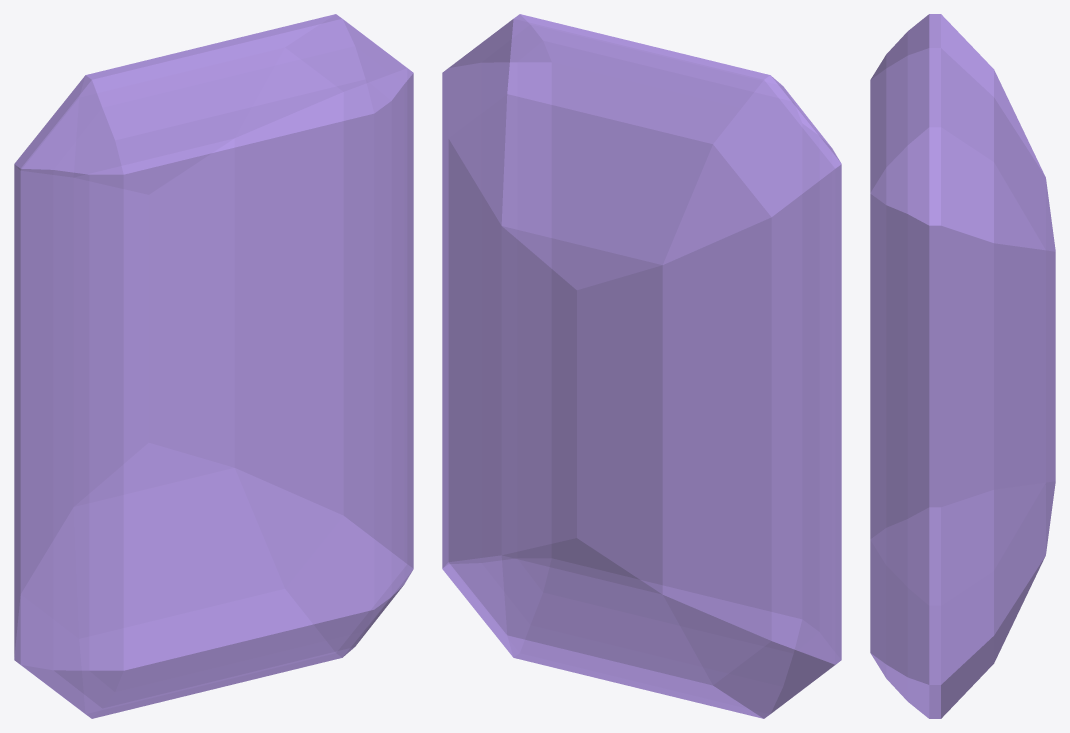
Rendered from emerald ametiste.glb.
The picture shows the model from 3 angles, left to right: view 1: azimuth 30°, elevation 25°; view 2: azimuth 150°, elevation 25°; view 3: azimuth 270°, elevation 25°; orthographic projection. The views are drawn at different scales.
Parts seen in each view (by area): view 1: Emerald; view 2: Emerald; view 3: Emerald.
Part boxes in pixels (left/top/right/bottom): Emerald: left=14, top=14, right=413, bottom=718; Emerald: left=442, top=14, right=841, bottom=718; Emerald: left=870, top=14, right=1055, bottom=718.
Size of the model in its own units: 1.29 by 2 by 0.568.
